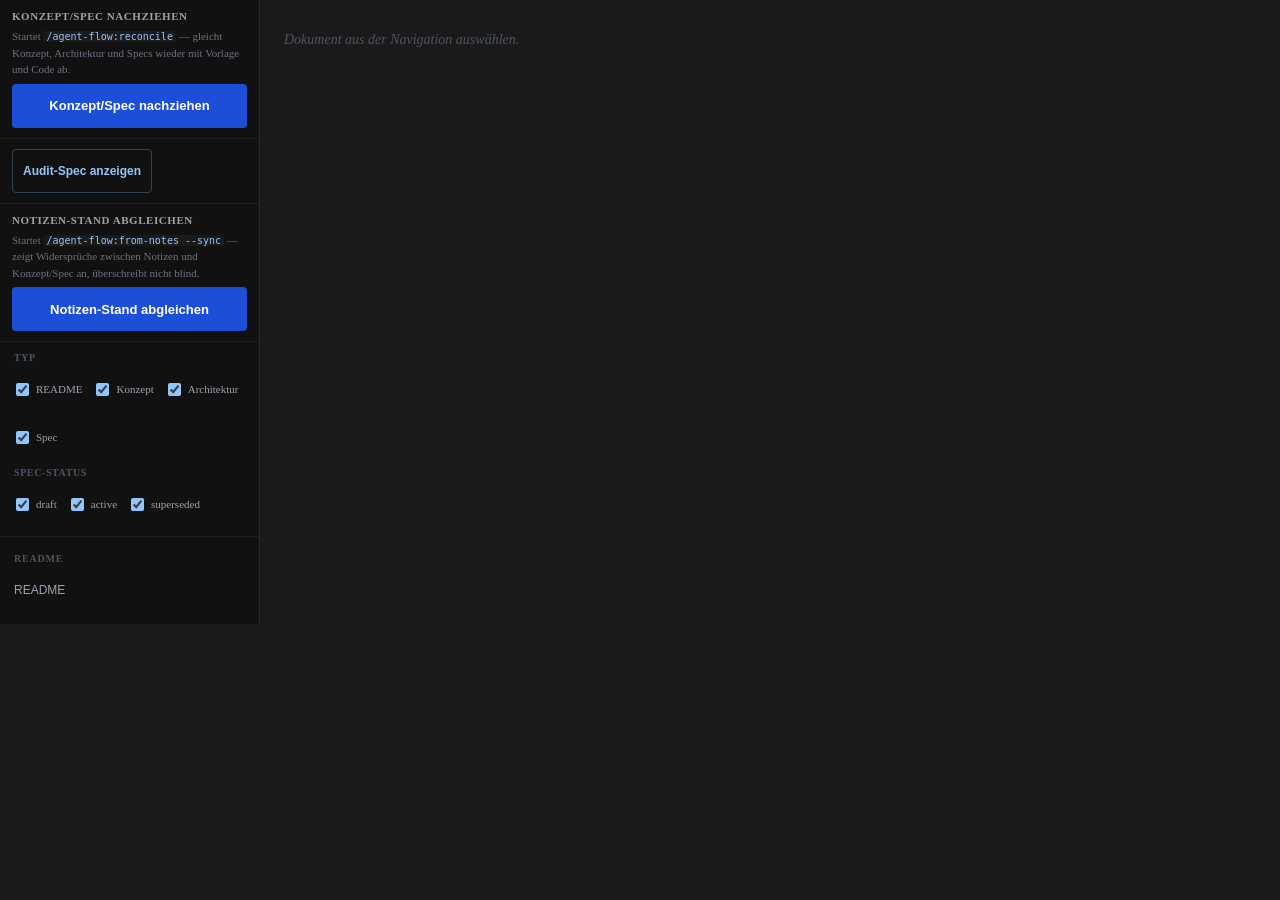
SpecView — obsidian-sync-trigger AC3: Starten POSTet genau einmal, Abbrechen nicht › Leere Vault-Projektordner-Liste → Fehlerhinweis im Dialog, kein POST möglich (Edge-Case A1)
What coordinates should you click on to do the following:
click the button with test id "obsidian-sync-btn"
I would click on:
 (130, 309)
Its box is 12,287 -> 247,331.
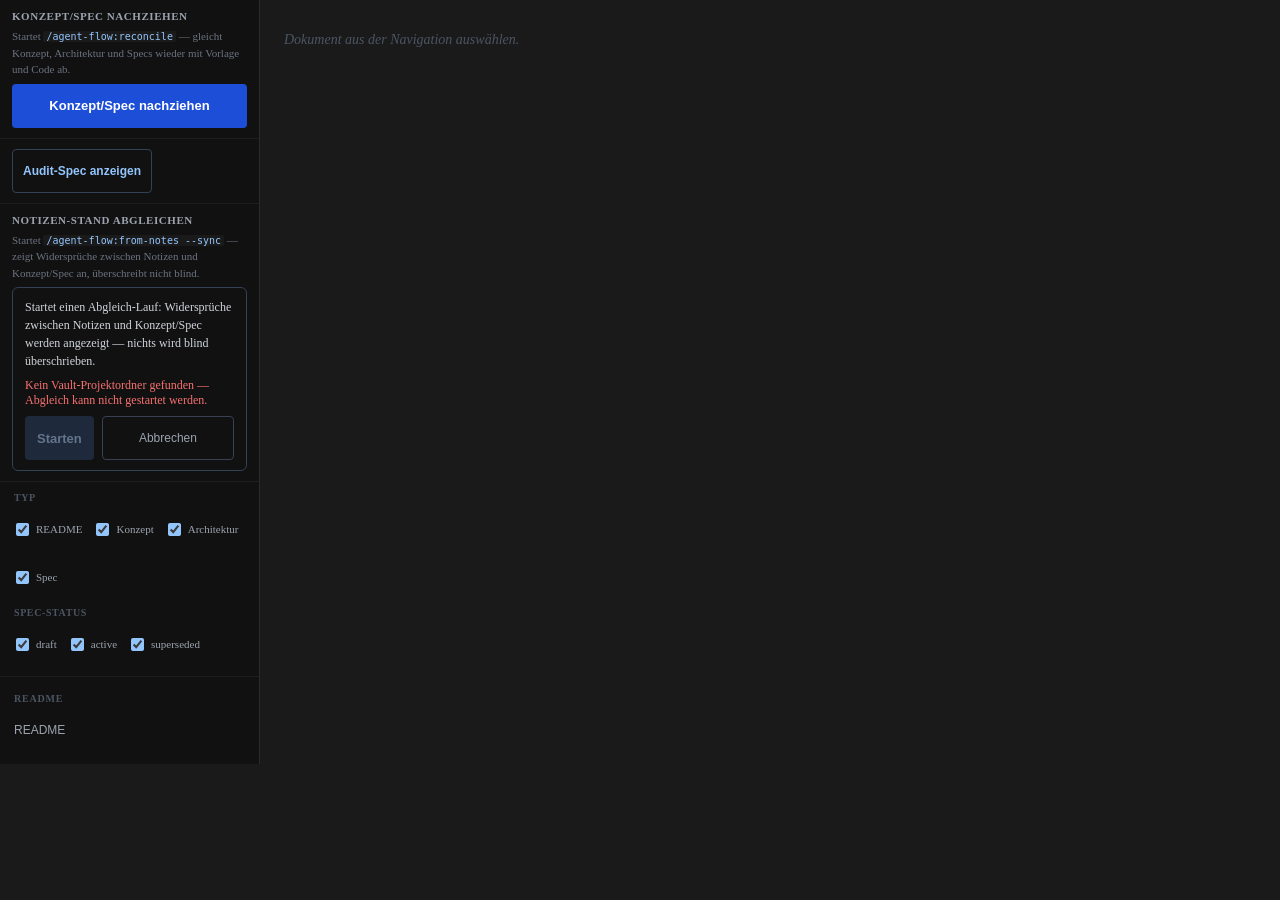
Result: the message "Kein Vault-Projektordner gefunden — Abgleich kann nicht gestartet werden." is shown at 25,378 -> 234,408
